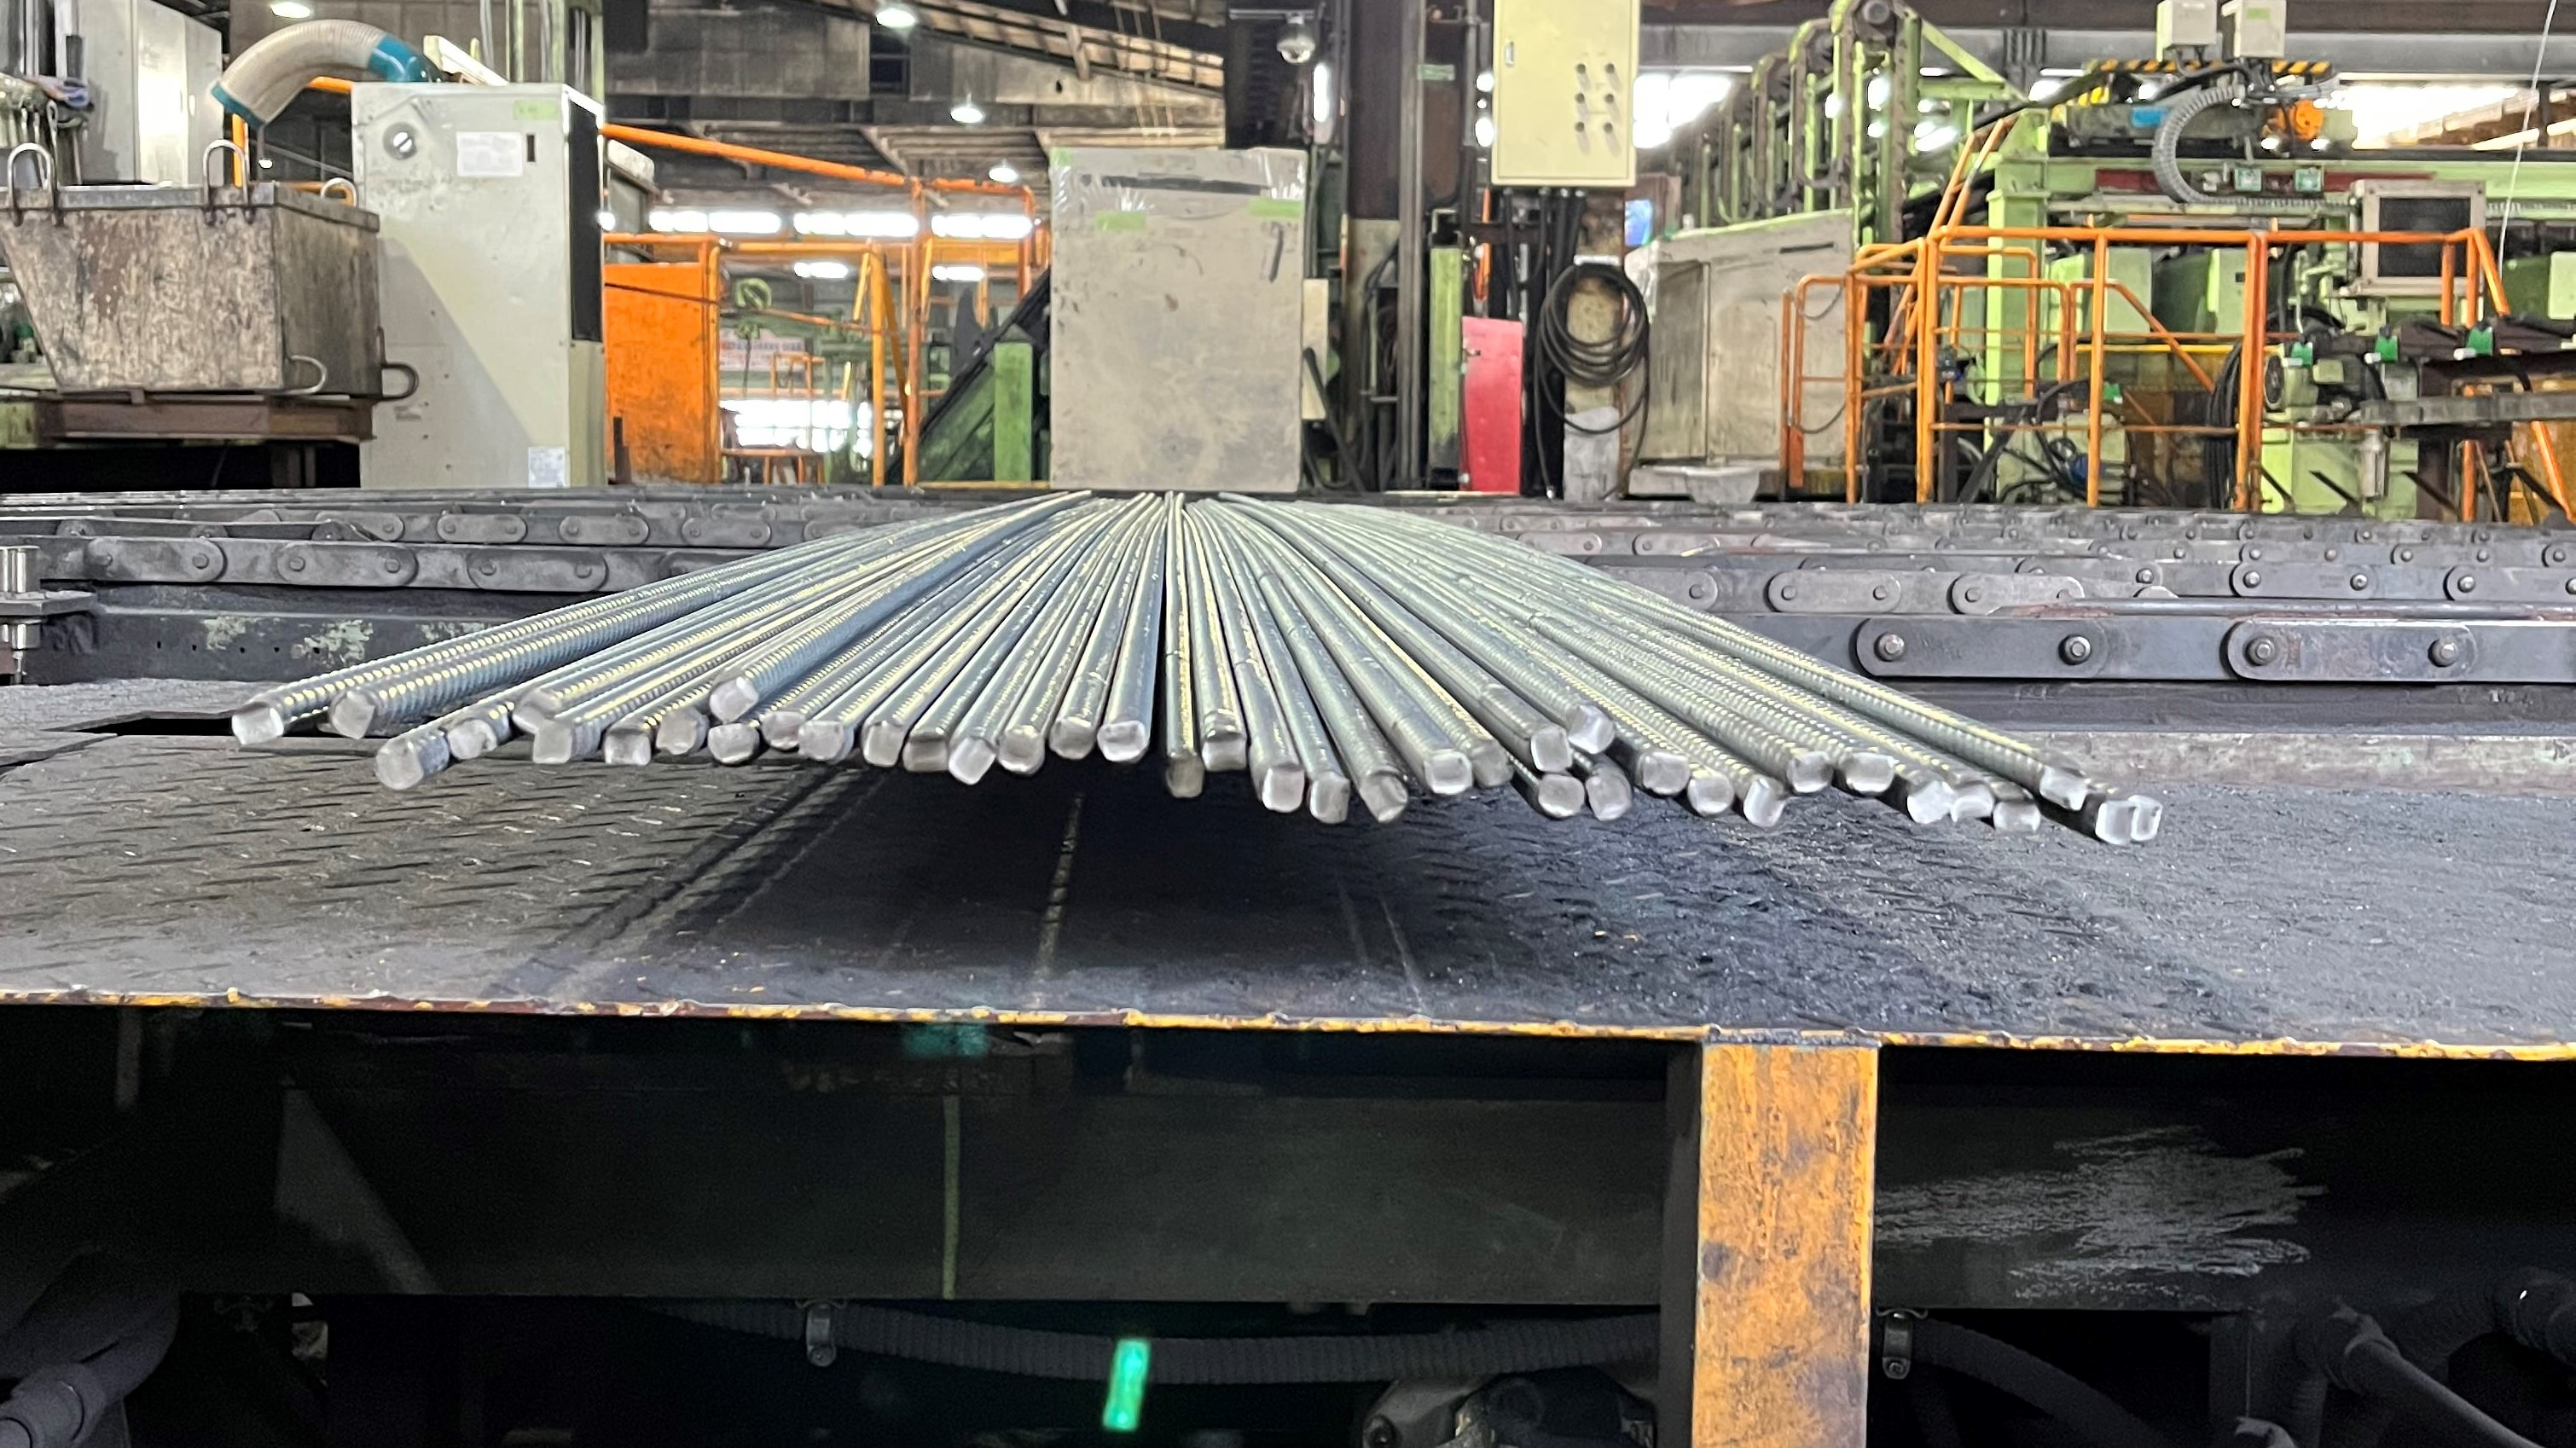rod: (372, 735, 426, 792), (1357, 766, 1410, 824), (226, 700, 287, 751), (510, 681, 563, 735), (1566, 702, 1619, 757), (706, 674, 763, 725), (441, 714, 501, 762), (327, 688, 379, 743), (1741, 773, 1789, 831), (2036, 764, 2091, 813), (1842, 750, 1900, 796), (796, 721, 856, 766), (948, 734, 1000, 785), (996, 725, 1047, 776), (1583, 771, 1635, 822), (1532, 773, 1587, 820), (1424, 748, 1474, 799), (1638, 748, 1691, 796), (655, 705, 702, 757), (1258, 762, 1306, 813), (1948, 771, 1996, 822), (1470, 741, 1516, 794), (704, 723, 761, 766), (1047, 714, 1097, 762), (531, 716, 577, 767), (860, 718, 906, 769), (1686, 773, 1737, 819), (1905, 778, 1957, 824), (1309, 773, 1353, 826), (1529, 725, 1575, 774), (1787, 750, 1836, 796), (759, 709, 810, 753), (1099, 721, 1150, 766), (600, 725, 653, 767), (1201, 728, 1249, 774), (2091, 797, 2135, 847), (1992, 794, 2043, 835), (901, 730, 948, 773), (1164, 750, 1205, 799), (2128, 792, 2166, 842)
